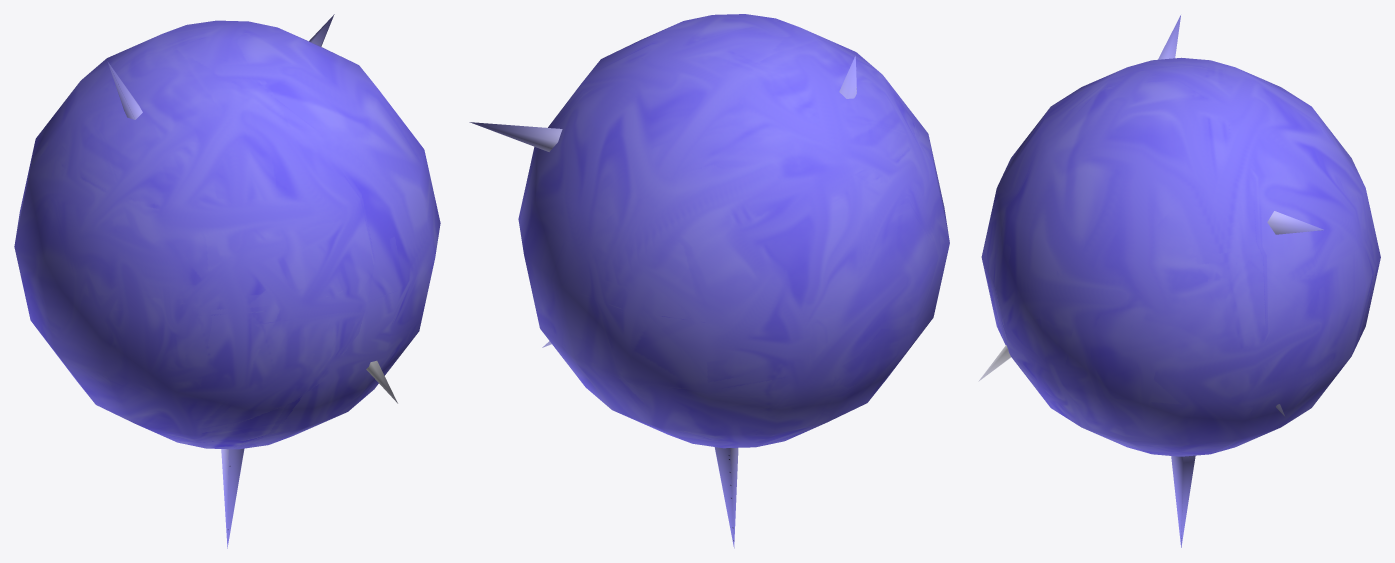
The model's file is PlasmaBurst.obj.
3 renders of one model, left to right at view 1: azimuth 30°, elevation 25°; view 2: azimuth 150°, elevation 25°; view 3: azimuth 270°, elevation 25°, orthographic. The views are drawn at different scales.
Parts seen in each view (by area): view 1: Sphere; view 2: Sphere; view 3: Sphere.
Boxes of the visible parts, x1,y1,x2,y2 form: Sphere: (14,14,440,548); Sphere: (469,14,949,548); Sphere: (978,15,1380,547).
Bounding box in the file's own units: 2 × 2.66 × 2.02.
